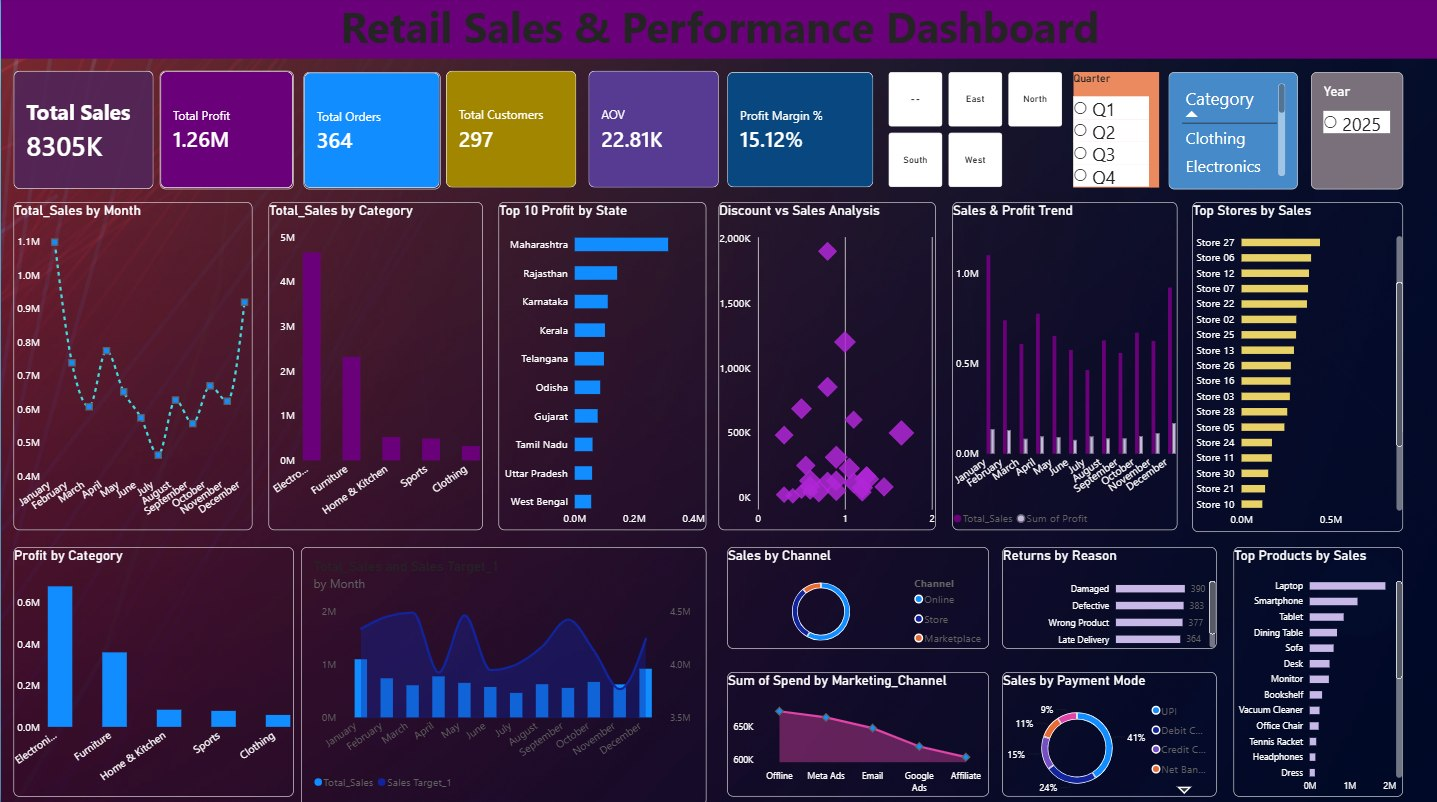

The page's visual inventory and layout, read from the dashboard file:
{"tool":"powerbi","page":{"name":"Page 1","canvas":[1920,1080],"ordinal":0},"visuals":[{"type":"cardVisual","fields":{"Data":["Targets.Total Sales"]},"box":[16.5,98.8,187.3,158.5],"z":0},{"type":"cardVisual","fields":{"Data":["Stores.Total Profit"]},"box":[212,98.8,179.1,158.5],"z":1000},{"type":"cardVisual","fields":{"Data":["Targets.Total Orders"]},"box":[403.4,100.9,183.2,156.4],"z":2000},{"type":"cardVisual","fields":{"Data":["Targets.Total Customers"]},"box":[594.9,98.8,175,156.4],"z":3000},{"type":"cardVisual","fields":{"Data":["Customers.AOV"]},"box":[784.2,98.8,175,156.4],"z":4000},{"type":"cardVisual","fields":{"Data":["Customers.Profit Margin %"]},"box":[969.5,100.9,195.5,154.4],"z":5000},{"type":"listSlicer","fields":{"Values":["Date.Quarter"]},"box":[1432.6,100.9,114,154],"z":6000},{"type":"listSlicer","fields":{"Values":["Date.Year"]},"box":[1749.6,100.9,123.5,156.4],"z":7000},{"type":"advancedSlicerVisual","fields":{"Values":["Stores.Region"]},"box":[1185.6,100.9,234.6,154.4],"z":8000},{"type":"tableEx","fields":{"Values":["Products.Category"]},"box":[1560.2,100.9,172.9,156.4],"z":9000},{"type":"lineChart","fields":{"Category":["Date.Month"],"Y":["Fact_Sales.Total_Sales"]},"box":[16.5,273.8,319,438.4],"z":10000},{"type":"columnChart","fields":{"Category":["Products.Category"],"Y":["Fact_Sales.Total_Sales"]},"box":[358.1,273.8,286.1,438.4],"z":11000},{"type":"clusteredBarChart","title":"Top 10 Profit by State","fields":{"Category":["Stores.State"],"Y":["Sum(Fact_Sales.Profit)"]},"box":[664.8,273.8,277.9,438.4],"z":12000},{"type":"clusteredColumnChart","title":"Profit by Category","fields":{"Category":["Products.Category"],"Y":["Sum(Fact_Sales.Profit)"]},"box":[16.5,734.8,374.6,333.4],"z":13000},{"type":"donutChart","title":"Sales by Channel","fields":{"Category":["Fact_Sales.Channel"],"Y":["Fact_Sales.Total_Sales"]},"box":[969.5,734.8,349.9,135.8],"z":14000},{"type":"donutChart","title":"Sales by Payment Mode","fields":{"Category":["Fact_Sales.Payment_Mode"],"Y":["Fact_Sales.Total_Sales"]},"box":[1337.9,901.5,286.1,166.7],"z":15000},{"type":"clusteredBarChart","title":"Top Stores by Sales","fields":{"Category":["Stores.Store_Name"],"Y":["Fact_Sales.Total_Sales"]},"box":[1591.1,273.8,282,440.5],"z":16000},{"type":"clusteredBarChart","title":"Top Products by Sales","fields":{"Category":["Products.Product_Name"],"Y":["Fact_Sales.Total_Sales"]},"box":[1646.7,734.8,226.4,333.4],"z":17000},{"type":"lineClusteredColumnComboChart","title":"Sales & Profit Trend","fields":{"Category":["Date.Month"],"Y":["Fact_Sales.Total_Sales","Sum(Fact_Sales.Profit)"]},"box":[1270,273.8,300.5,438.4],"z":18000},{"type":"scatterChart","title":"Discount vs Sales Analysis","fields":{"X":["Sum(Fact_Sales.Discount_Rate)"],"Y":["Sum(Fact_Sales.Sales_Amount)"],"Size":["Sum(Fact_Sales.Quantity)"],"Category":["Fact_Sales.Product_ID"]},"box":[959.2,273.8,290.2,438.4],"z":20000},{"type":"clusteredBarChart","title":"Returns by Reason","fields":{"Category":["Returns.Return_Reason"],"Y":["Sum(Returns.Return_Quantity)"]},"box":[1337.9,734.8,286.1,135.8],"z":21000},{"type":"lineChart","fields":{"Category":["Marketing.Marketing_Channel"],"Y":["Sum(Marketing.Spend)"]},"box":[969.5,901.5,349.9,166.7],"z":22000},{"type":"textbox","box":[0,0,1920.4,82.3],"z":23000},{"type":"lineClusteredColumnComboChart","fields":{"Category":["Date.Month"],"Y":["Fact_Sales.Total_Sales"],"Y2":["Customers.Sales Target_1"]},"box":[401.4,734.8,541.3,345.8],"z":23001}]}

Visuals, with their boxes in screenshot pixels (x1, y1, x2, y2), scaled from the page's 1920x1080 canvas onto the 1437x802 screenshot:
cardVisual - Targets.Total Sales: <box>12,73,153,191</box>
cardVisual - Stores.Total Profit: <box>159,73,293,191</box>
cardVisual - Targets.Total Orders: <box>302,75,439,191</box>
cardVisual - Targets.Total Customers: <box>445,73,576,190</box>
cardVisual - Customers.AOV: <box>587,73,718,190</box>
cardVisual - Customers.Profit Margin %: <box>726,75,872,190</box>
listSlicer - Date.Quarter: <box>1072,75,1158,189</box>
listSlicer - Date.Year: <box>1309,75,1402,191</box>
advancedSlicerVisual - Stores.Region: <box>887,75,1063,190</box>
tableEx - Products.Category: <box>1168,75,1297,191</box>
lineChart - Date.Month x Fact_Sales.Total_Sales: <box>12,203,251,529</box>
columnChart - Products.Category x Fact_Sales.Total_Sales: <box>268,203,482,529</box>
"Top 10 Profit by State" clusteredBarChart: <box>498,203,706,529</box>
"Profit by Category" clusteredColumnChart: <box>12,546,293,793</box>
"Sales by Channel" donutChart: <box>726,546,987,647</box>
"Sales by Payment Mode" donutChart: <box>1001,669,1215,793</box>
"Top Stores by Sales" clusteredBarChart: <box>1191,203,1402,530</box>
"Top Products by Sales" clusteredBarChart: <box>1232,546,1402,793</box>
"Sales & Profit Trend" lineClusteredColumnComboChart: <box>951,203,1175,529</box>
"Discount vs Sales Analysis" scatterChart: <box>718,203,935,529</box>
"Returns by Reason" clusteredBarChart: <box>1001,546,1215,647</box>
lineChart - Marketing.Marketing_Channel x Sum(Marketing.Spend): <box>726,669,987,793</box>
textbox: <box>0,0,1436,61</box>
lineClusteredColumnComboChart - Date.Month x Fact_Sales.Total_Sales: <box>300,546,706,801</box>
